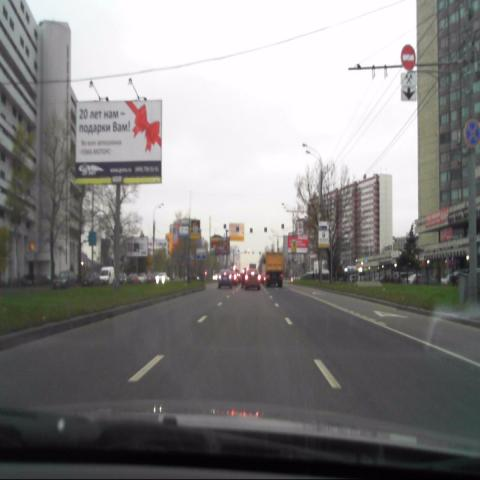3_1: (400, 44, 416, 70)
